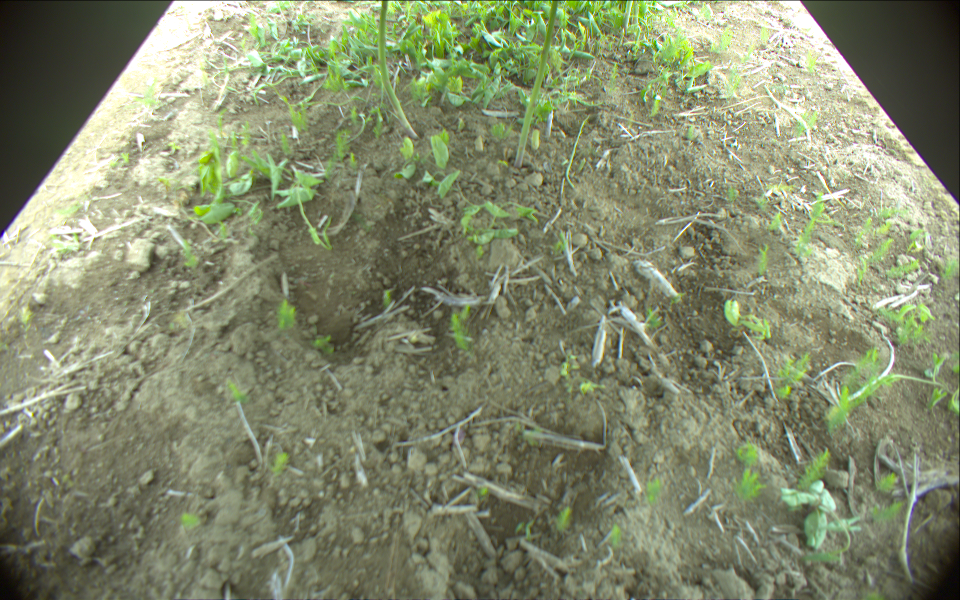aspa: (515, 1, 558, 166), (380, 1, 418, 139)
